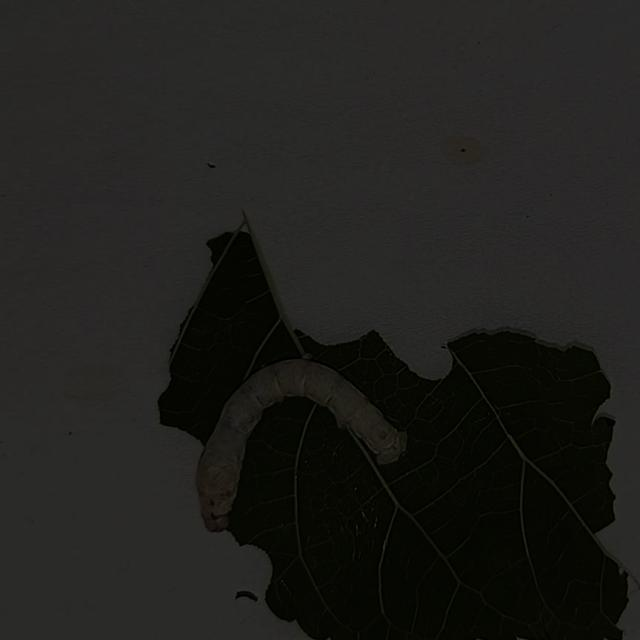Healthy: (184, 347, 427, 544)
